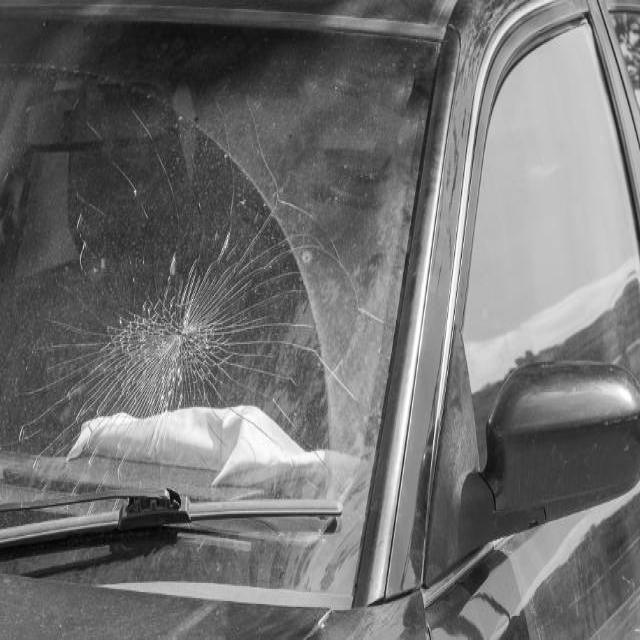Dent: (272, 221, 368, 320), (222, 400, 324, 490), (14, 356, 110, 448), (124, 96, 178, 227), (279, 329, 362, 410), (245, 103, 289, 220), (74, 189, 107, 230), (110, 155, 138, 200), (353, 304, 392, 330), (85, 117, 103, 140), (218, 224, 230, 257), (620, 572, 636, 589), (79, 238, 87, 268), (623, 438, 631, 451)
